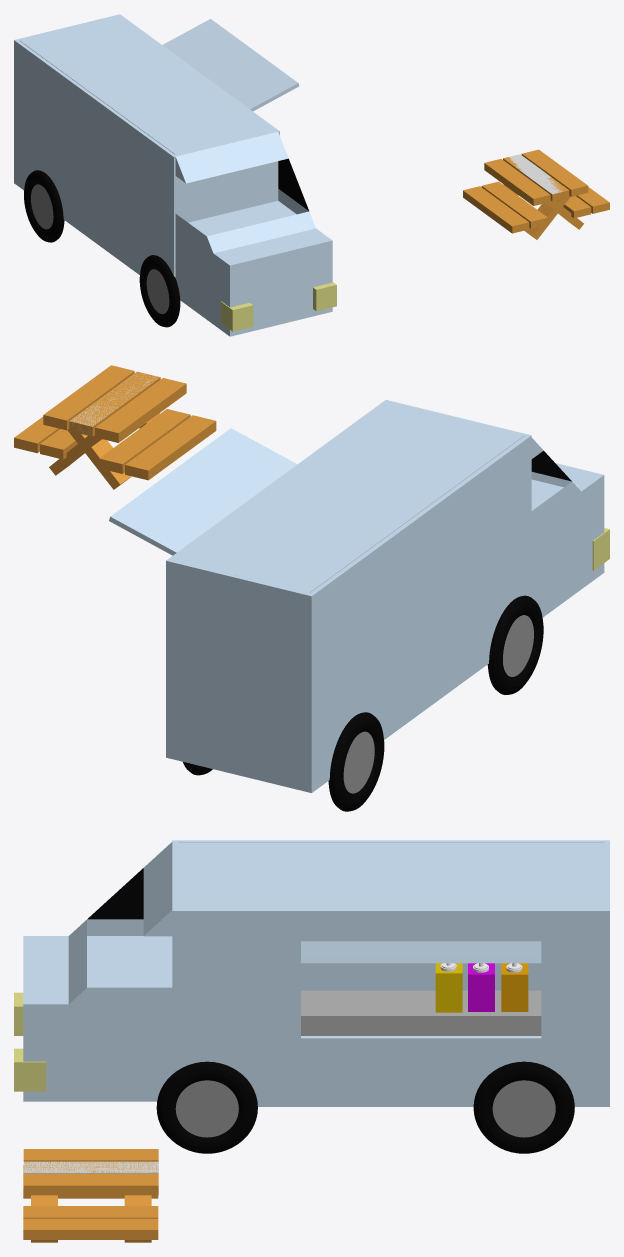
Rendered from foodtruck.glb.
The picture shows the model from 3 angles, top to bottom: view 1: azimuth 30°, elevation 25°; view 2: azimuth 150°, elevation 25°; view 3: azimuth 270°, elevation 25°; orthographic projection. The views are drawn at different scales.
Parts seen in each view (by area): view 1: Wall, Roof, Driver Cube, Driver, Window, Bench Seats, Bench, Front Wheels, Back Wheels, Front Light, Bench Legs, Sneaky Middle (+2 smaller); view 2: Wall, Back Panel, Roof, Window, Driver Cube, Bench, Bench Seats, Back Wheels, Front Wheels, Driver, Bench Legs, Window Wall (+1 smaller); view 3: Window Wall, Roof, Driver Cube, Units, Driver, Back Wheels, Front Wheels, Wall, Bench, Window, Bench Seats, Sneaky Middle (+7 smaller).
Part boxes in pixels (x1,y1,x2,y2): Wall: (16,40,177,277); Roof: (20,16,274,154); Driver Cube: (175,201,332,336); Driver: (175,132,315,254); Window: (162,19,299,111); Bench Seats: (463,181,609,233); Bench: (484,149,588,205); Front Wheels: (139,255,180,327); Back Wheels: (24,170,64,242); Front Light: (221,282,336,331); Bench Legs: (503,184,583,239); Sneaky Middle: (508,154,563,194); Wall: (310,434,531,790); Back Panel: (166,559,314,792); Roof: (173,403,523,592); Window: (109,428,297,555); Driver Cube: (531,463,604,617); Bench: (43,365,186,442); Bench Seats: (14,409,216,480); Back Wheels: (183,712,384,811); Front Wheels: (487,595,543,694); Driver: (531,437,580,527); Bench Legs: (49,413,159,489); Window Wall: (169,400,389,559); Window Wall: (172,909,604,1106); Roof: (178,843,604,908); Driver Cube: (23,936,172,1101); Units: (301,990,541,1035); Driver: (65,842,172,1007); Back Wheels: (473,1061,574,1153); Front Wheels: (156,1061,257,1153); Wall: (172,840,604,990); Bench: (23,1149,158,1195); Window: (301,941,541,963); Bench Seats: (23,1165,158,1239); Sneaky Middle: (23,1161,158,1173).
Size of the model in its own units: 22.63 by 9.88 by 22.07.
